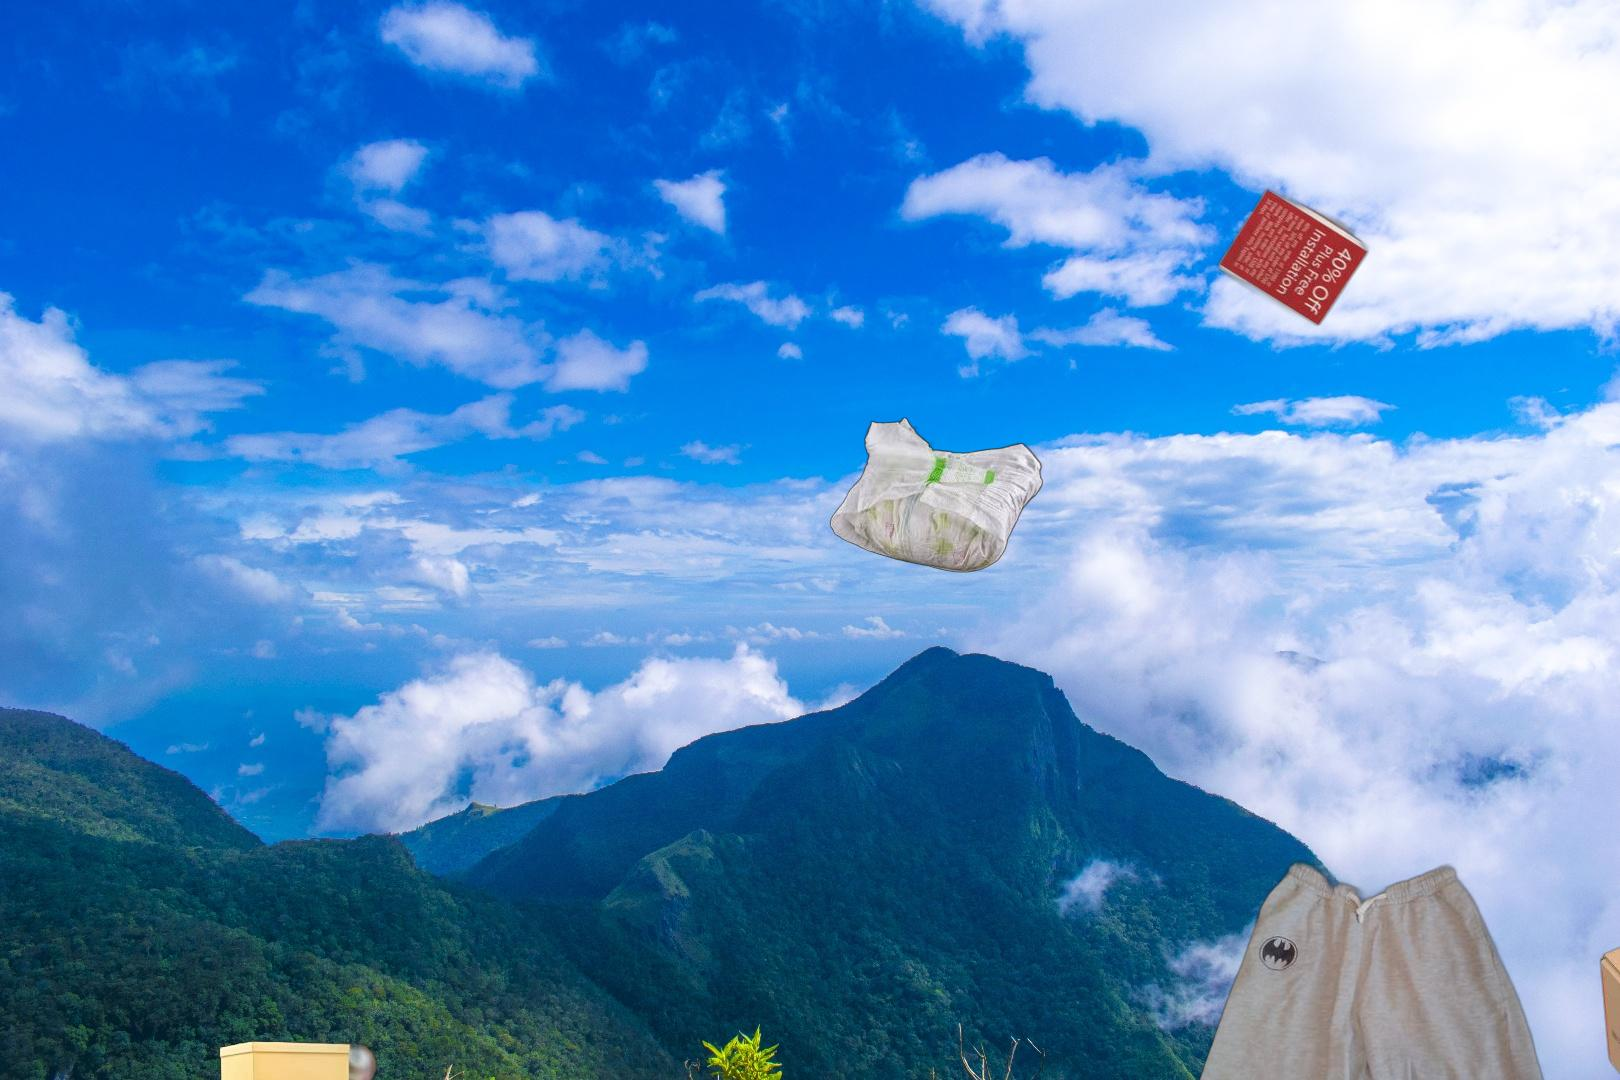clothes: (1174, 857, 1565, 1080)
paper: (1103, 83, 1393, 329)
trash: (827, 415, 1046, 575)
trashbox-cardboard: (133, 1032, 382, 1080), (1597, 894, 1620, 1080)
